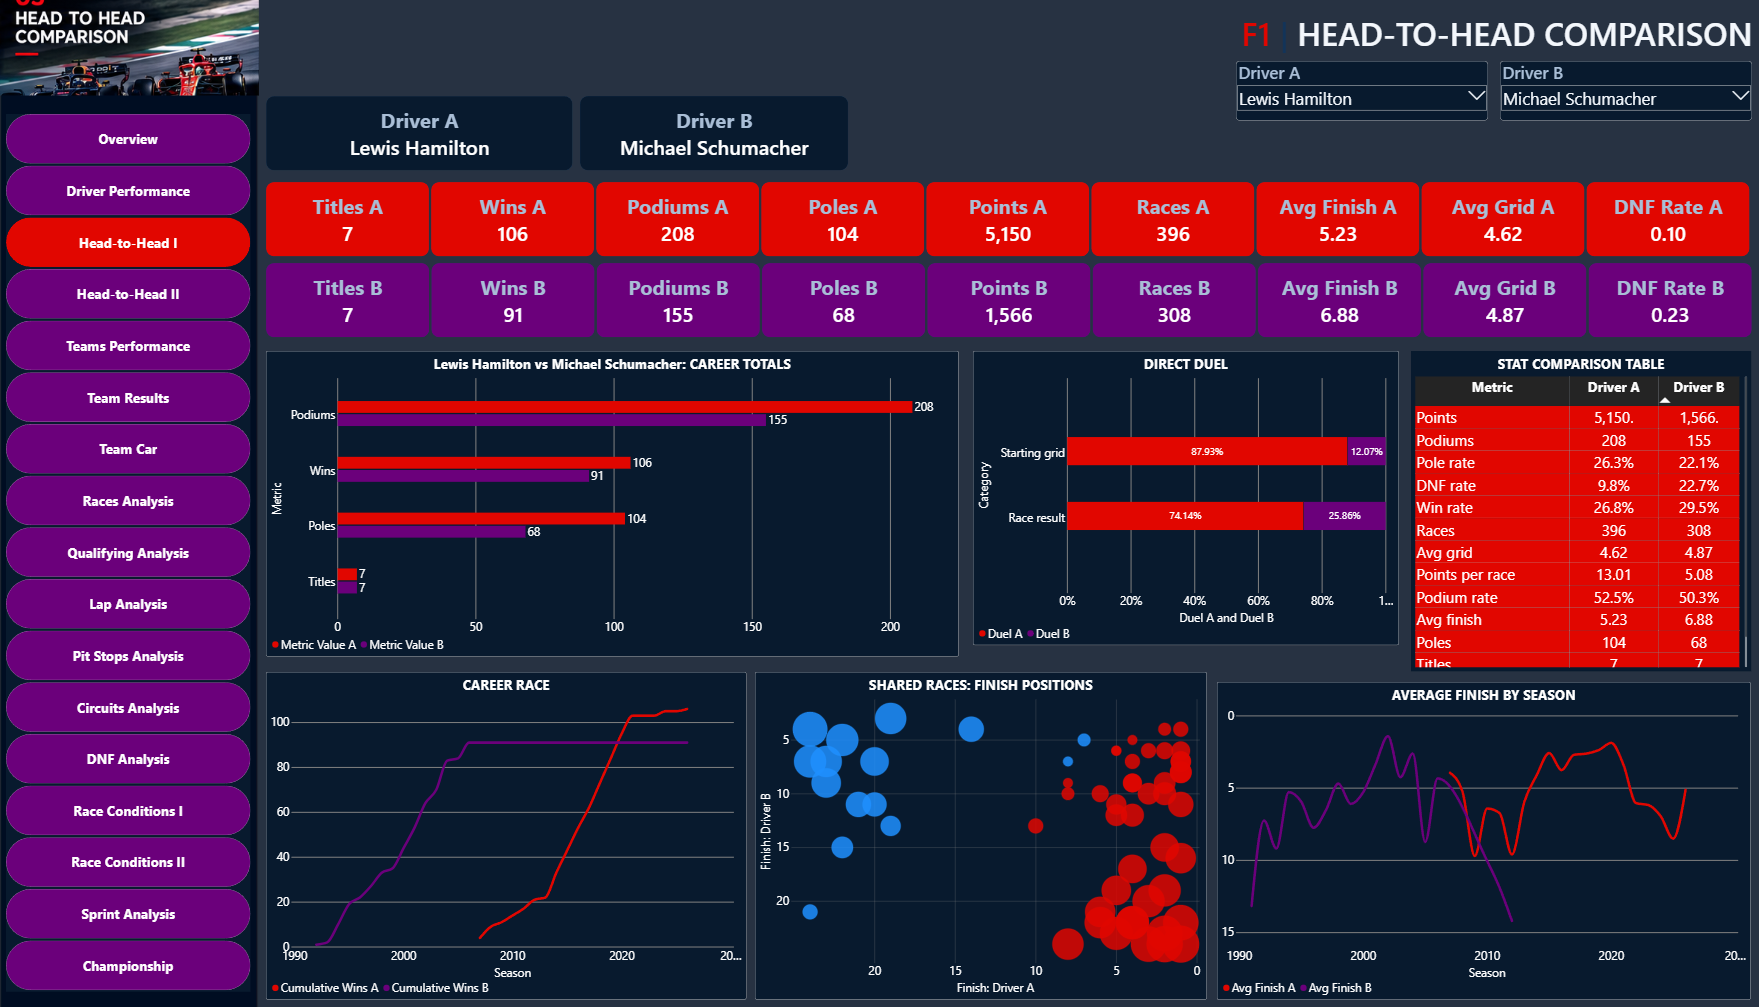

The page's visual inventory and layout, read from the dashboard file:
{"tool":"powerbi","page":{"name":"Head-to-Head I","canvas":[7000,4000],"ordinal":4},"visuals":[{"type":"textbox","box":[4916.3,44.3,2049.3,197],"z":0},{"type":"cardVisual","fields":{"Data":["Driver A.Titles A","Driver A.Wins A","Driver A.Podiums A","Driver A.Poles A","Driver A.Points A","Driver A.Races A","Driver A.Avg Finish A","Driver A.Avg Grid A","Driver A.DNF Rate A"]},"box":[1069,724.1,5891.6,295],"z":1000},{"type":"lineChart","title":"CAREER RACE","fields":{"Category":["races.year"],"Y":["Driver A.Cumulative Wins A","Driver A.Cumulative Wins B"]},"box":[1069,2665,1906.4,1300.5],"z":2000},{"type":"slicer","fields":{"Values":["Driver A.Driver A"]},"box":[4916.3,241.4,1000,236.5],"z":3000},{"type":"tableEx","title":"STAT COMPARISON TABLE","fields":{"Values":["Stats.Metric","Stats.Stat A Display","Stats.Stat B Display"]},"box":[5610.8,1394.1,1349.8,1270.9],"z":4000},{"type":"slicer","fields":{"Values":["Driver B.Driver B"]},"box":[5965.5,241.4,1000,236.5],"z":5000},{"type":"cardVisual","fields":{"Data":["Driver B.Titles B","Driver B.Wins B","Driver B.Podiums B","Driver B.Poles B","Driver B.Points B","Driver B.Races B","Driver B.Avg Finish B","Driver B.Avg Grid B","Driver B.DNF Rate B"]},"box":[1069,1044.3,5896.6,295.6],"z":6000},{"type":"cardVisual","fields":{"Data":["Min(Driver B.Driver B)"]},"box":[2315.3,379.3,1064,295],"z":7000},{"type":"cardVisual","fields":{"Data":["Min(Driver A.Driver A)"]},"box":[1069,379.3,1216.7,295],"z":8000},{"type":"lineChart","title":"AVERAGE FINISH BY SEASON","fields":{"Category":["races.year"],"Y":["Driver A.Avg Finish A","Driver B.Avg Finish B"]},"box":[4842.4,2704.4,2118.2,1261.1],"z":9000},{"type":"scatterChart","title":"SHARED RACES: FINISH POSITIONS","fields":{"Category":["races.Race Label"],"Size":["races.Places Ahead"],"X":["Driver A.Finish A"],"Y":["Driver A.Finish B"]},"box":[3009.9,2665,1793.1,1300.5],"z":10000},{"type":"clusteredBarChart","fields":{"Category":["Metrics.Metric"],"Y":["Metrics.Metric Value A","Metrics.Metric Value B"]},"box":[1069,1394.1,2748.8,1211.8],"z":11000},{"type":"hundredPercentStackedBarChart","title":"DIRECT DUEL","fields":{"Category":["Duel.Category"],"Y":["Duel.Duel A","Duel.Duel B"]},"box":[3871.9,1394.1,1689.7,1167.5],"z":12000},{"type":"shape","box":[9.9,0,1029.6,4502.5],"z":13000},{"type":"image","box":[0,0,1039.4,379.3],"z":14000},{"type":"pageNavigator","box":[34.5,453.2,970.4,3482.8],"z":15000}]}

Visuals, with their boxes on the page's 7000x4000 design canvas (x1, y1, x2, y2). These are canvas units, not pixel positions in the 1759x1007 screenshot, which may show the page scaled, cropped or inside an application window:
textbox: BBox(4916, 44, 6966, 241)
cardVisual - Driver A.Titles A x Driver A.Wins A: BBox(1069, 724, 6961, 1019)
"CAREER RACE" lineChart: BBox(1069, 2665, 2975, 3966)
slicer - Driver A.Driver A: BBox(4916, 241, 5916, 478)
"STAT COMPARISON TABLE" tableEx: BBox(5611, 1394, 6961, 2665)
slicer - Driver B.Driver B: BBox(5966, 241, 6966, 478)
cardVisual - Driver B.Titles B x Driver B.Wins B: BBox(1069, 1044, 6966, 1340)
cardVisual - Min(Driver B.Driver B): BBox(2315, 379, 3379, 674)
cardVisual - Min(Driver A.Driver A): BBox(1069, 379, 2286, 674)
"AVERAGE FINISH BY SEASON" lineChart: BBox(4842, 2704, 6961, 3966)
"SHARED RACES: FINISH POSITIONS" scatterChart: BBox(3010, 2665, 4803, 3966)
clusteredBarChart - Metrics.Metric x Metrics.Metric Value A: BBox(1069, 1394, 3818, 2606)
"DIRECT DUEL" hundredPercentStackedBarChart: BBox(3872, 1394, 5562, 2562)
shape: BBox(10, 0, 1040, 4502)
image: BBox(0, 0, 1039, 379)
pageNavigator: BBox(34, 453, 1005, 3936)
